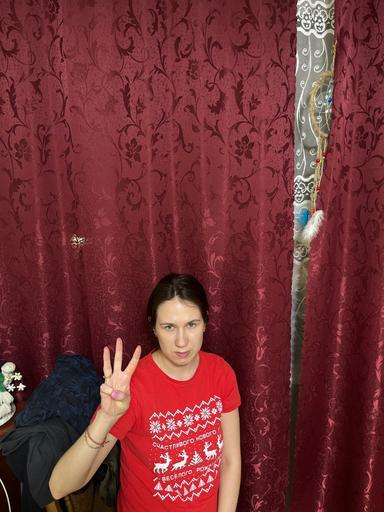three: (97, 334, 143, 419)
